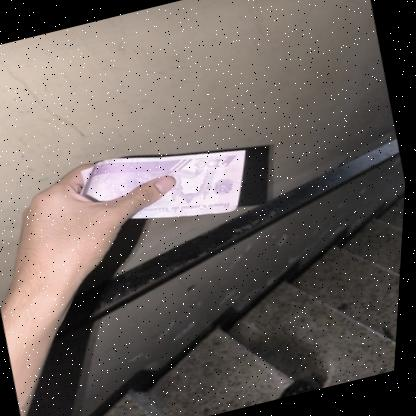one_hundred-back-vef: (71, 126, 263, 248)
